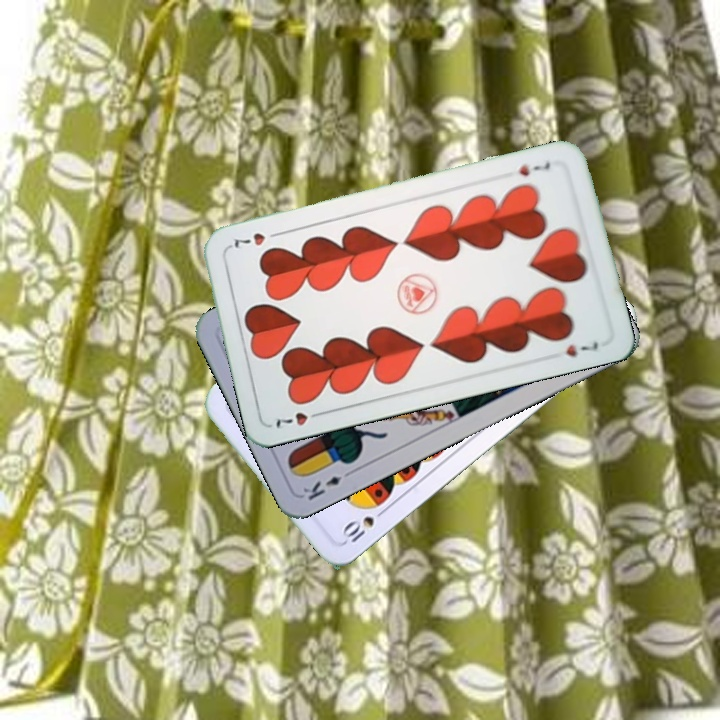EK: (298, 466, 356, 504)
H7: (272, 407, 327, 430), (515, 158, 553, 179)
S10: (338, 503, 390, 547)
